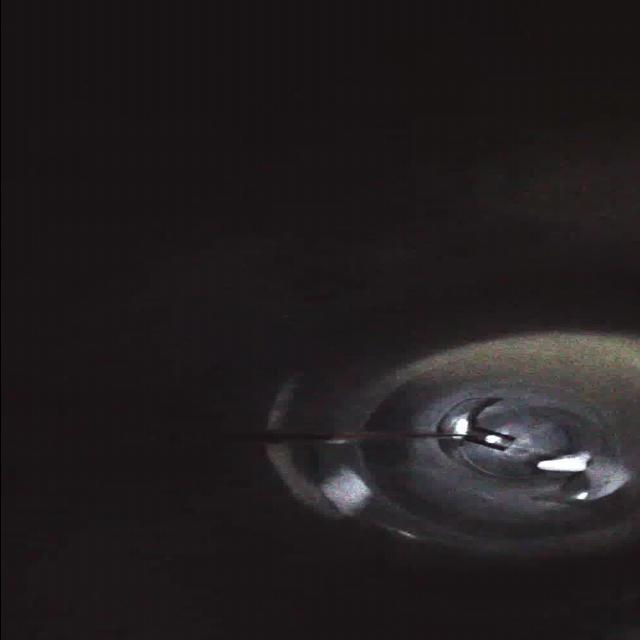impurity: (534, 448, 598, 478)
